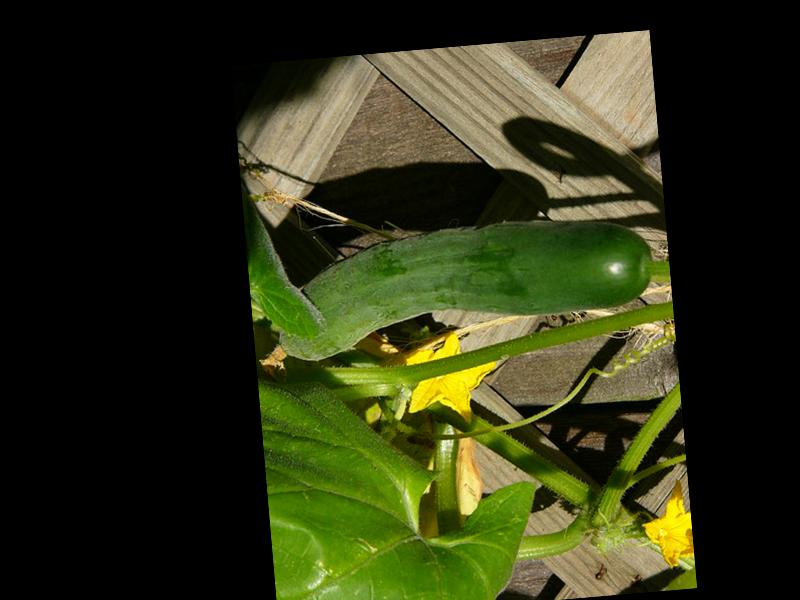Cucumber: (250, 208, 654, 365)
